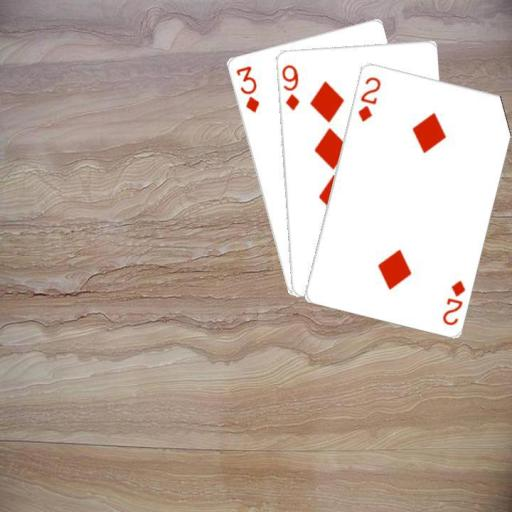2D: (355, 73, 382, 123), (439, 277, 466, 327)
3D: (232, 63, 260, 115)
9D: (279, 61, 301, 112)
